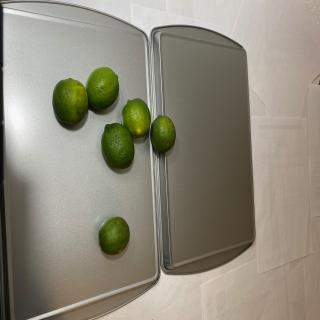Lemon: (52, 78, 88, 125), (101, 122, 135, 170), (85, 66, 119, 110), (98, 216, 130, 256), (122, 98, 151, 138), (150, 114, 176, 153)
